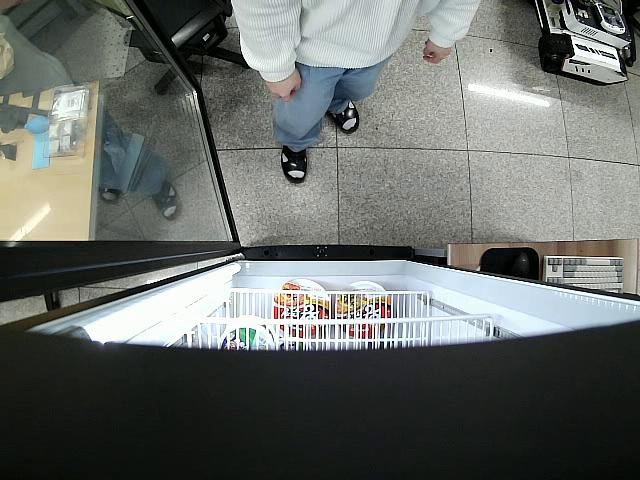00_hand: (264, 68, 304, 103), (424, 39, 452, 66)
